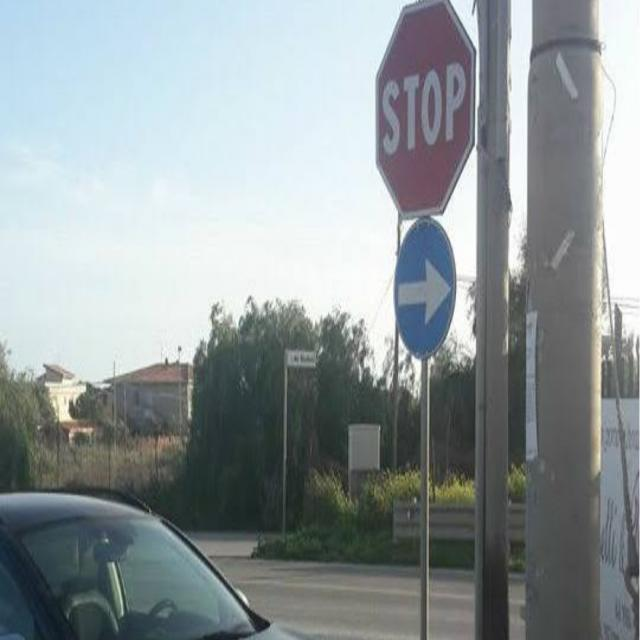Turn Right: (381, 219, 468, 352)
